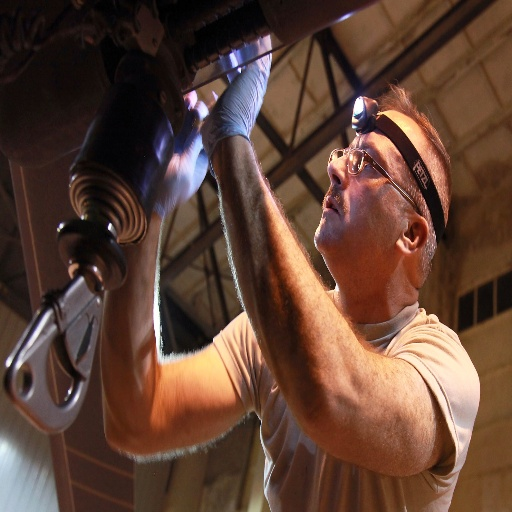hand: (201, 29, 273, 137), (159, 91, 206, 215)
